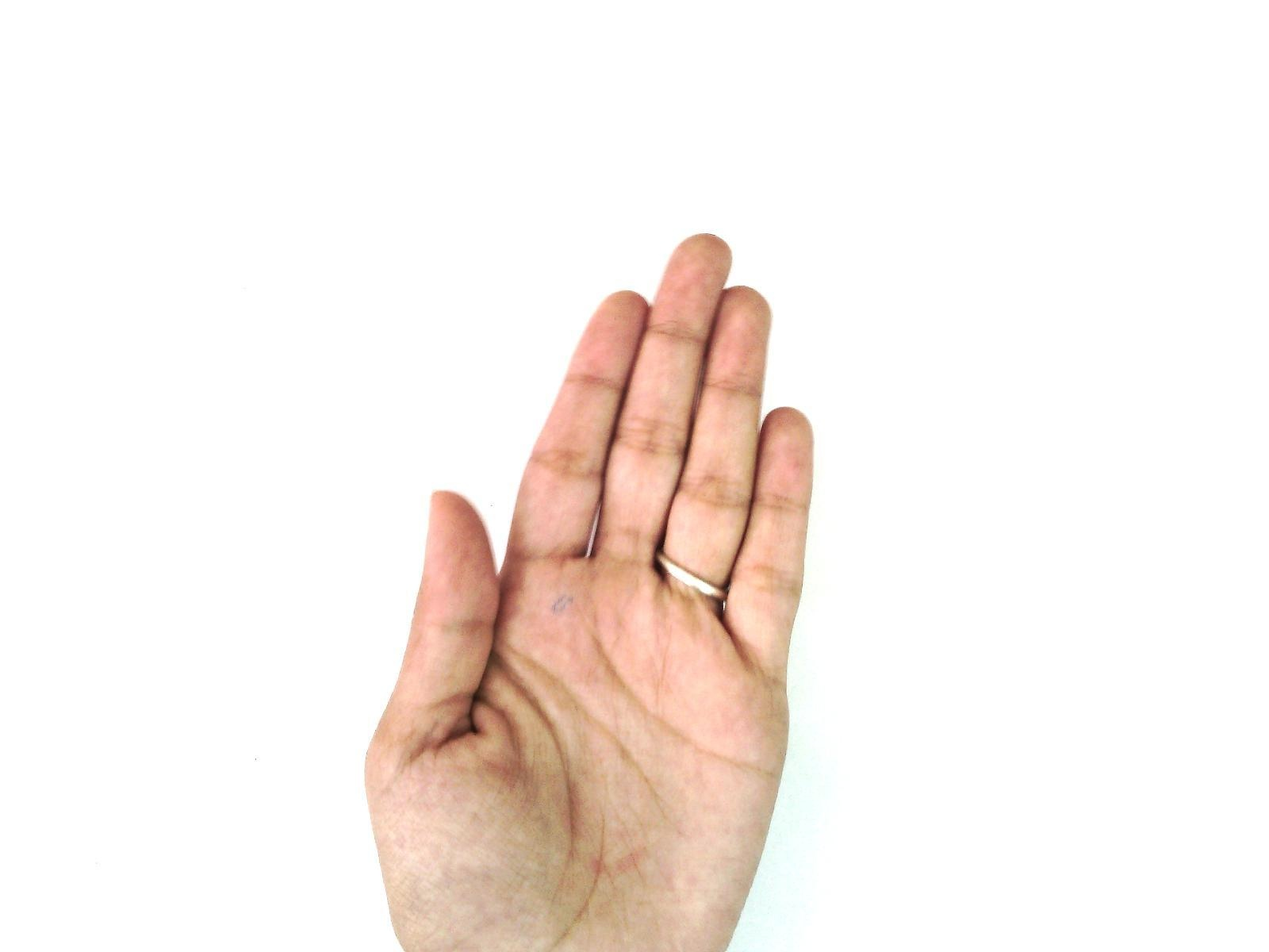open_palm: (362, 232, 818, 952)
